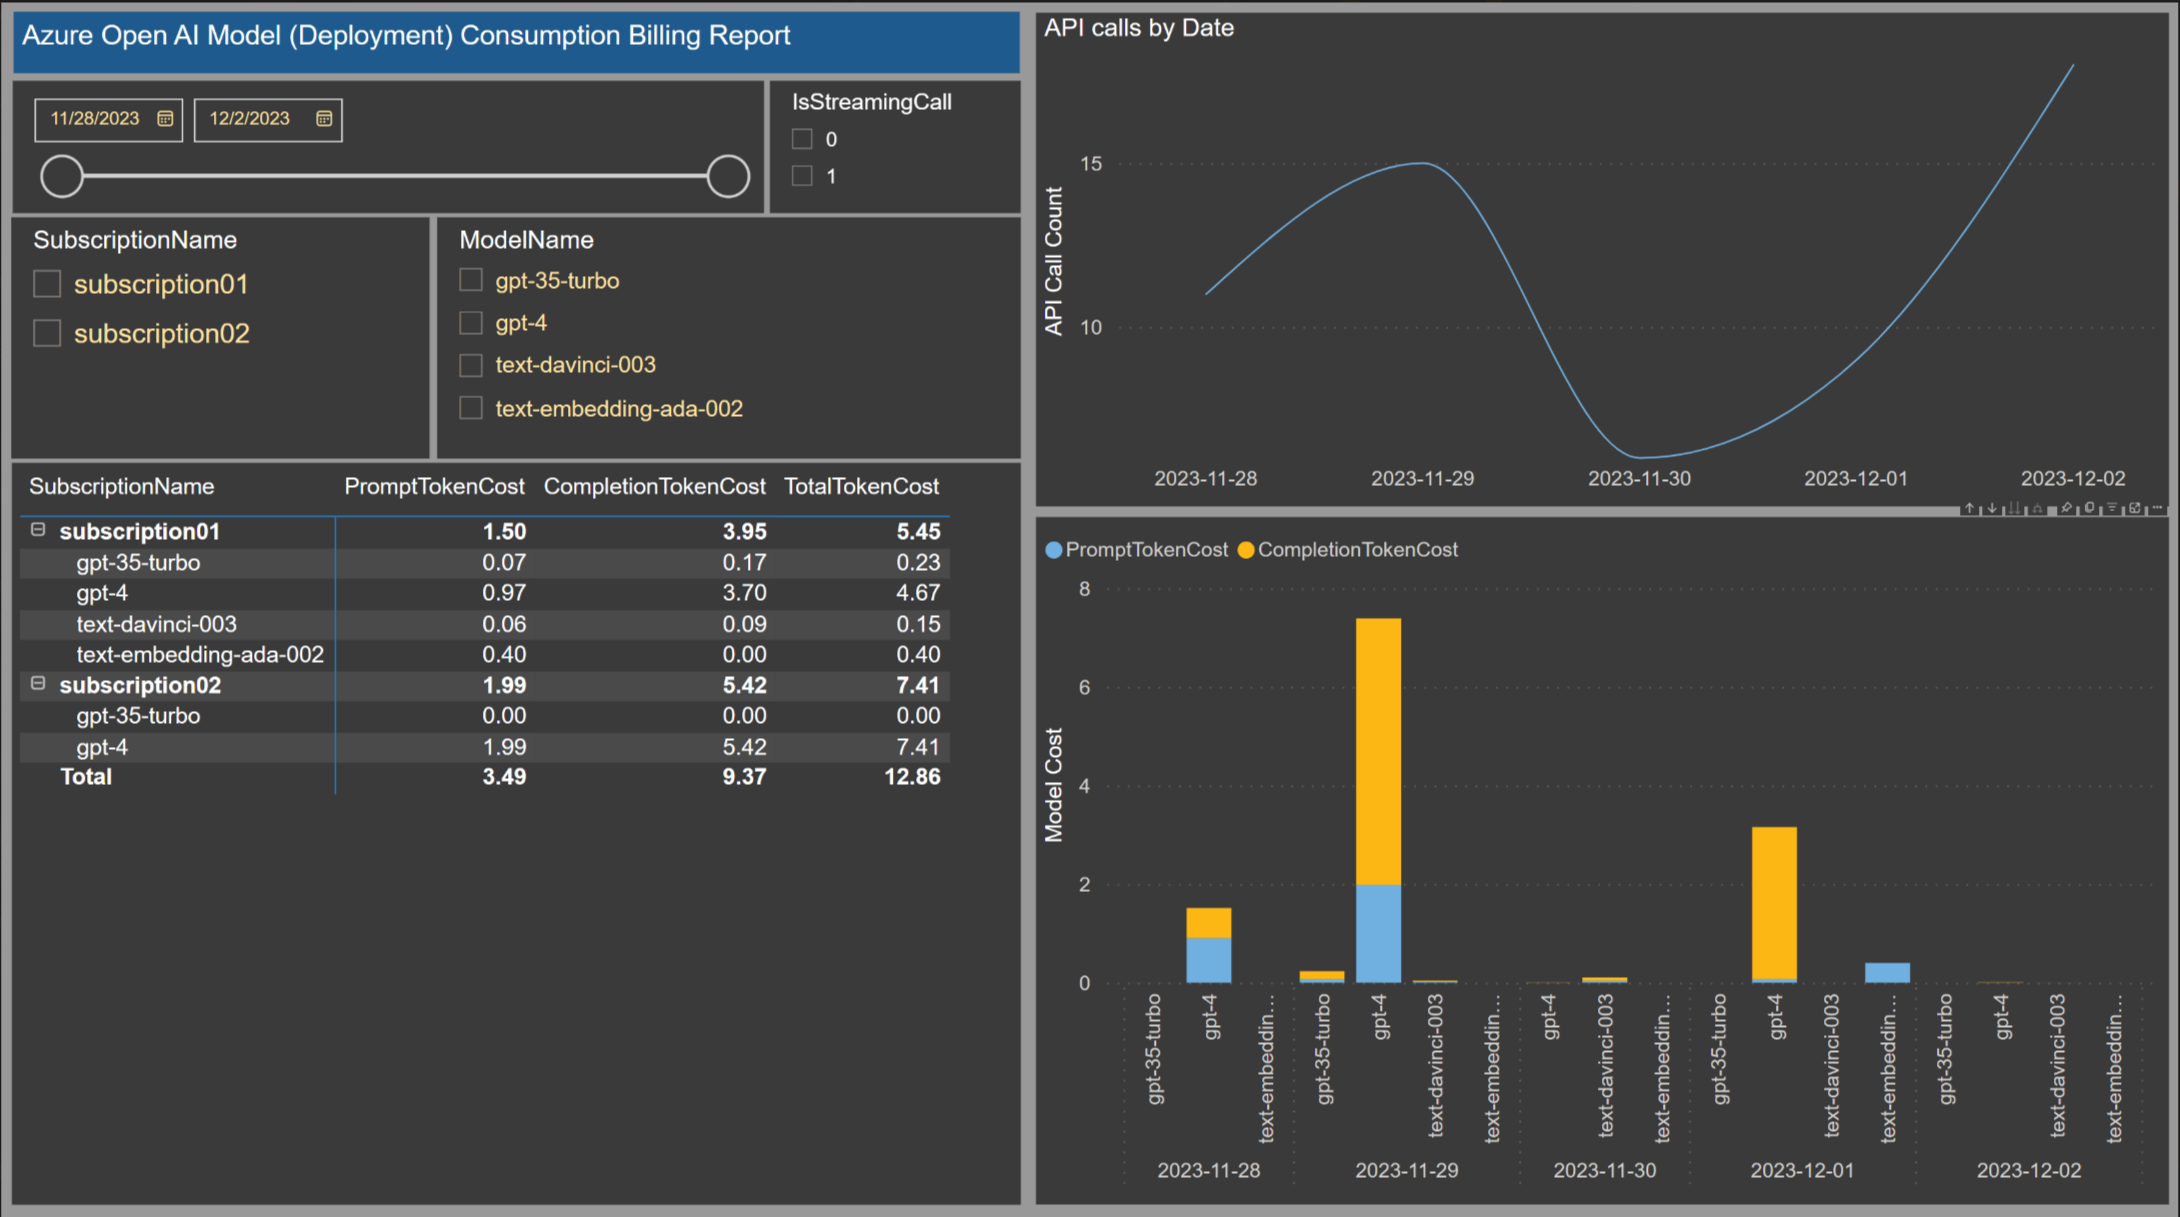

This screenshot's page, from the dashboard's own definition file:
{"tool":"powerbi","page":{"name":"Page 1","canvas":[1280,720],"ordinal":0},"visuals":[{"type":"lineChart","title":"API calls by Date","fields":{"Category":["Calendar.Date"],"Y":["ApimAoaiToken.CallingCount"]},"box":[607,8.5,665,289.4],"z":0},{"type":"slicer","fields":{"Values":["ApimAoaiToken.SubscriptionName"]},"box":[5.9,128.7,245.3,141.2],"z":1000},{"type":"textbox","box":[7.2,8.3,590.6,36.1],"z":2000},{"type":"slicer","fields":{"Values":["Calendar.Date"]},"box":[6.9,48.8,440.6,77.9],"z":3000},{"type":"lineStackedColumnComboChart","fields":{"Category":["Calendar.Date","ApimAoaiToken.ModelName"],"Y":["ApimAoaiToken.PromptTokenCost1","ApimAoaiToken.CompletionTokenCost1"]},"box":[607.2,304.4,664.4,403.3],"z":4000},{"type":"slicer","fields":{"Values":["ApimAoaiToken.ModelName"]},"box":[255.6,128.7,342.4,141.7],"z":5000},{"type":"pivotTable","fields":{"Rows":["ApimAoaiToken.SubscriptionName","ApimAoaiToken.ModelName"],"Values":["ApimAoaiToken.Prompt2TokenCost","ApimAoaiToken.Completion2TokenCost","ApimAoaiToken.TotalTokenCost"]},"box":[6.1,272.8,591.7,435],"z":6000},{"type":"slicer","fields":{"Values":["ApimAoaiToken.IsStreaming"]},"box":[450.9,48.8,146.9,77.9],"z":7000}]}

Visuals, with their boxes in screenshot pixels (x1, y1, x2, y2), scaled from the page's 1280x720 canvas onto the 2180x1217 screenshot:
"API calls by Date" lineChart: 1034 14 2166 504
slicer - ApimAoaiToken.SubscriptionName: 10 218 428 456
textbox: 12 14 1018 75
slicer - Calendar.Date: 12 82 762 214
lineStackedColumnComboChart - Calendar.Date x ApimAoaiToken.ModelName: 1034 515 2166 1196
slicer - ApimAoaiToken.ModelName: 435 218 1018 457
pivotTable - ApimAoaiToken.SubscriptionName x ApimAoaiToken.ModelName: 10 461 1018 1196
slicer - ApimAoaiToken.IsStreaming: 768 82 1018 214
